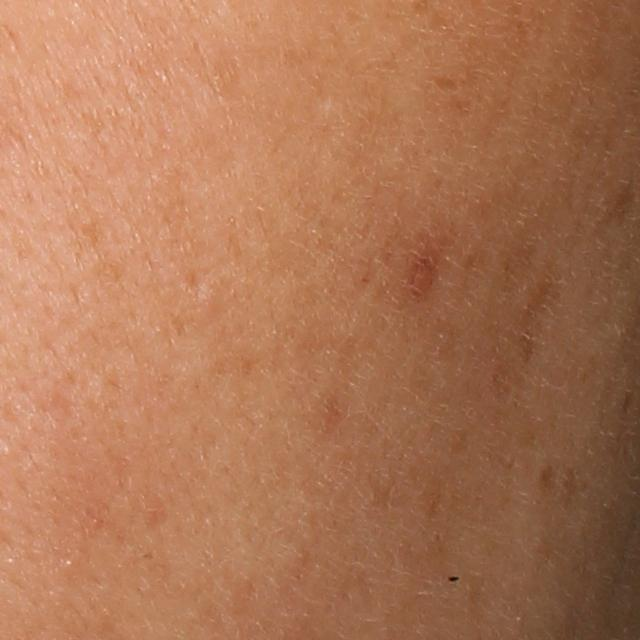melasma: (498, 237, 575, 366), (386, 223, 459, 310), (593, 178, 640, 240)
